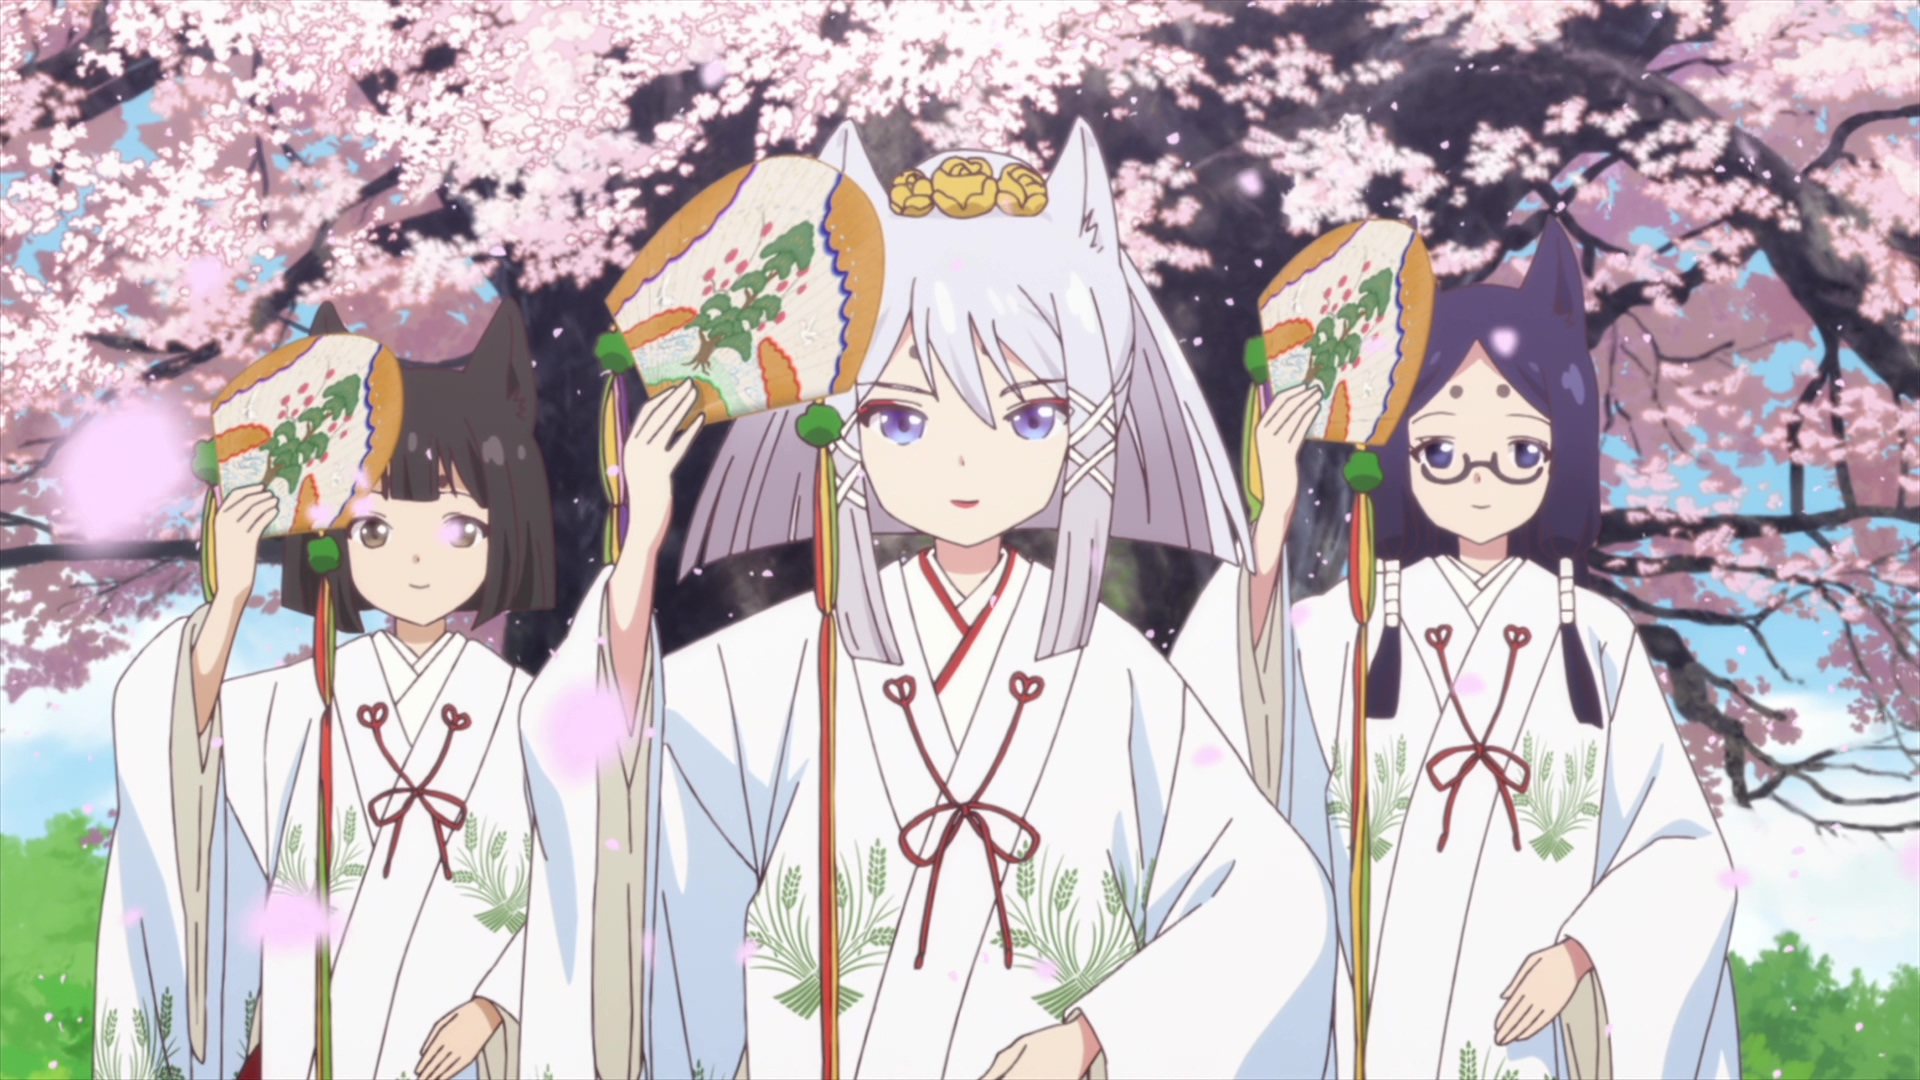其他: (95, 295, 558, 1080)
柊: (517, 117, 1338, 1080)
菖: (1167, 212, 1741, 1080)
